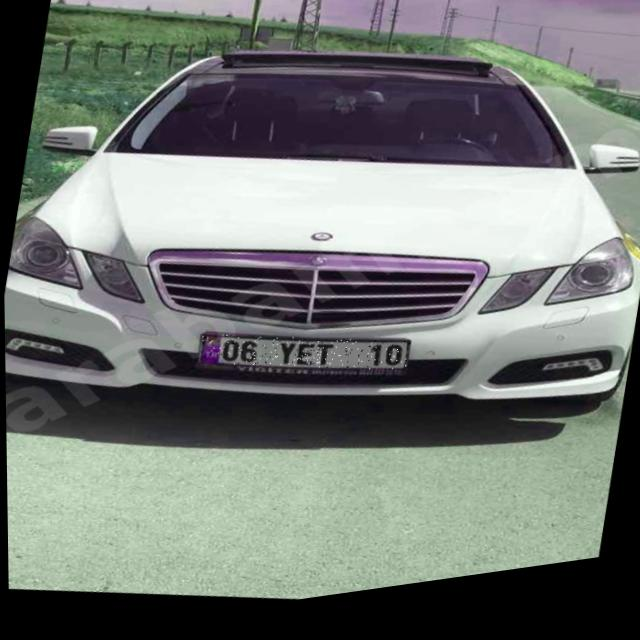license_plate: (196, 317, 409, 405)
